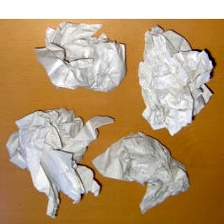tissue: (2, 102, 119, 222), (133, 21, 220, 140), (87, 128, 195, 220), (30, 19, 131, 96)
